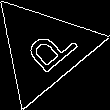P_SW: (12, 18, 76, 80)
